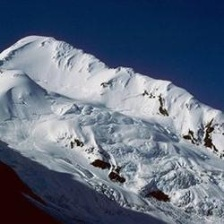neutral: (5, 9, 222, 222)
